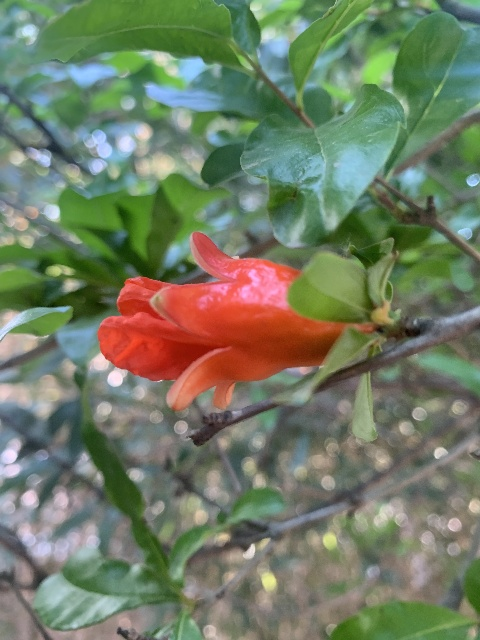flower: (98, 231, 366, 413)
